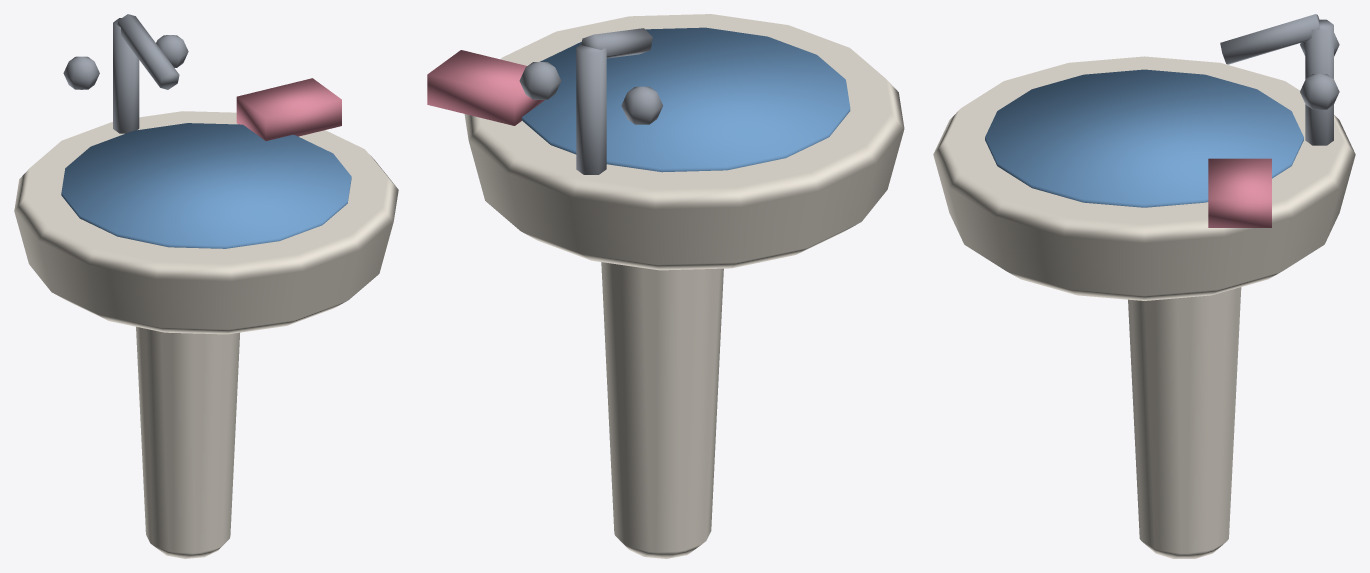
File: sink.glb
3 renders of one model, left to right at view 1: azimuth 30°, elevation 25°; view 2: azimuth 150°, elevation 25°; view 3: azimuth 270°, elevation 25°, orthographic. The views are drawn at different scales.
Parts seen in each view (by area): view 1: sink; view 2: sink; view 3: sink.
Boxes of the visible parts, box(x1,y1,x2,y2) form: sink: box(14, 14, 398, 558); sink: box(427, 14, 904, 558); sink: box(933, 14, 1355, 558).
Size of the model in its own units: 0.5303 by 0.7352 by 0.5303.
